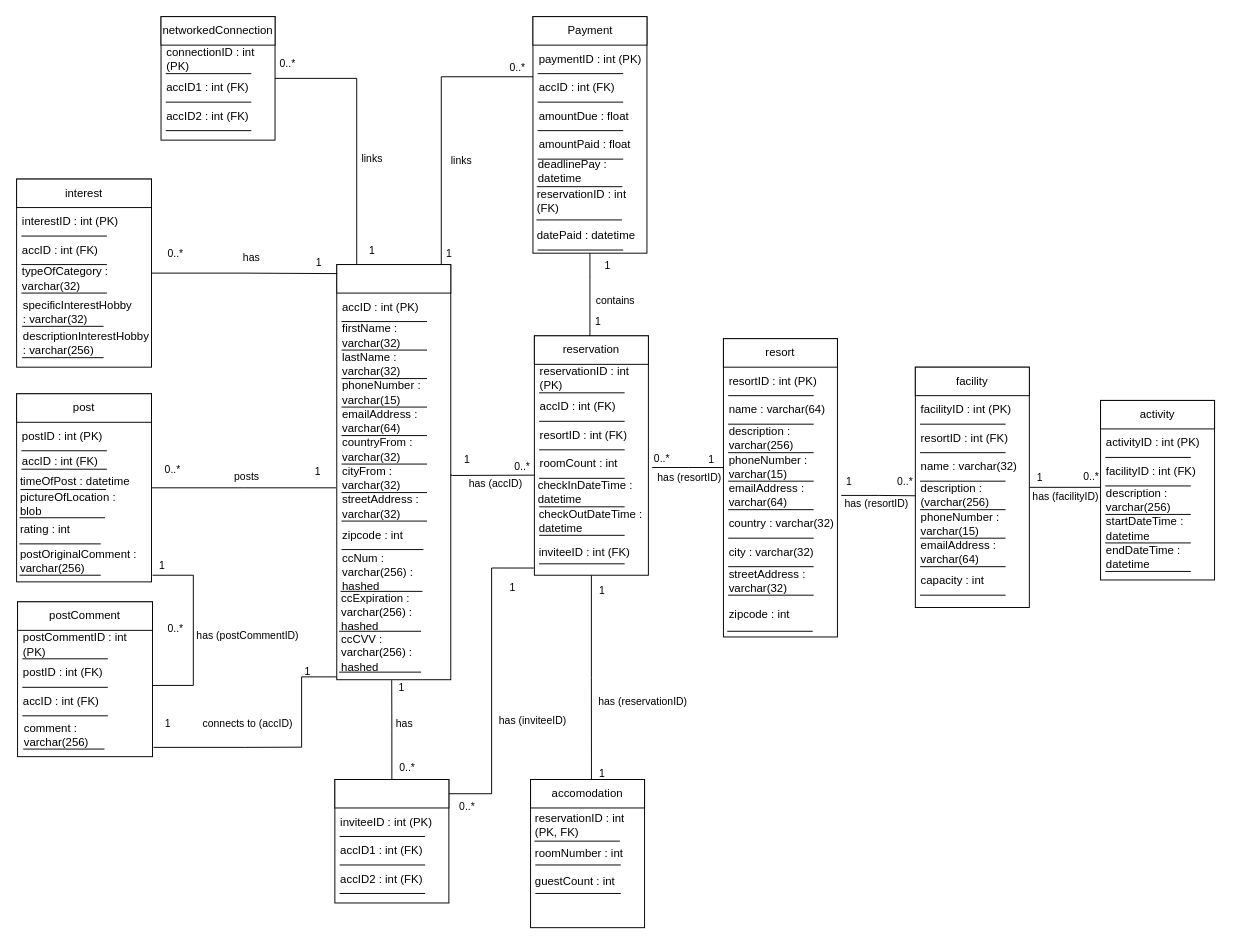
This 1235x944 diagram has some shape labels left out. Each missing label, with the centre of its shape:
invitee: [391,793]
traveler_account: [393,278]
